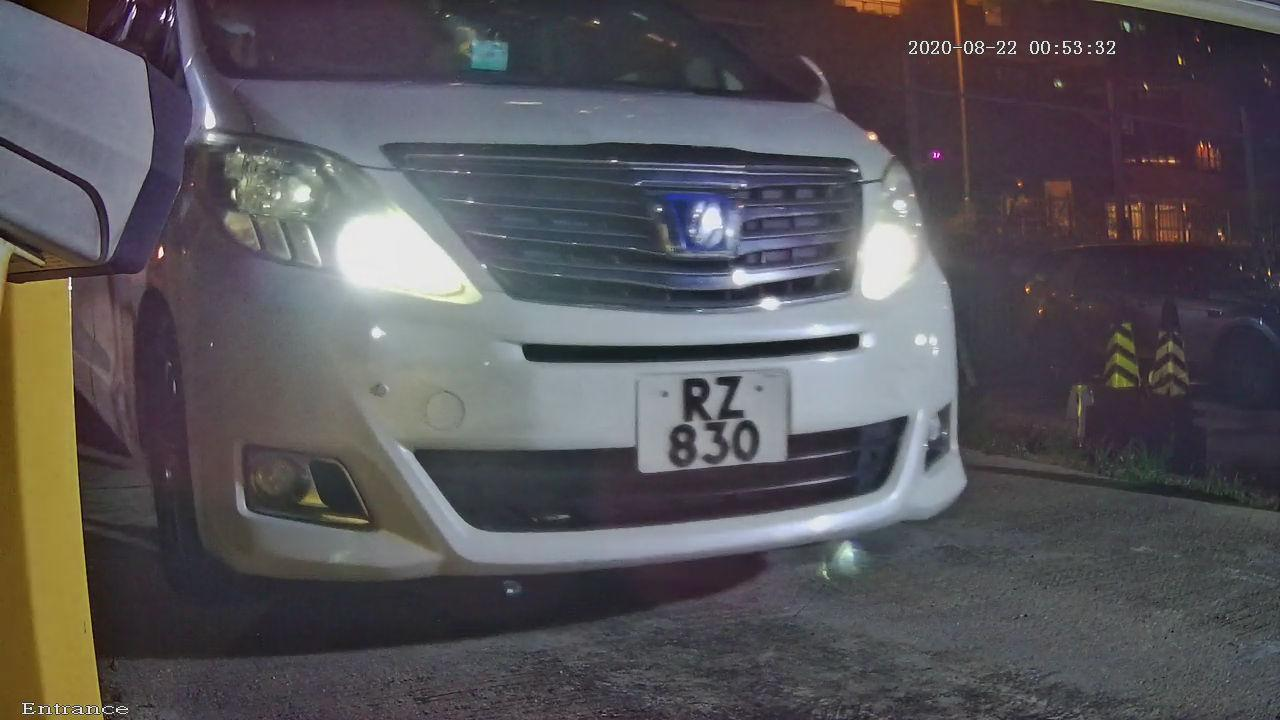Car: (63, 1, 995, 653)
License Plate: (612, 351, 806, 483)
